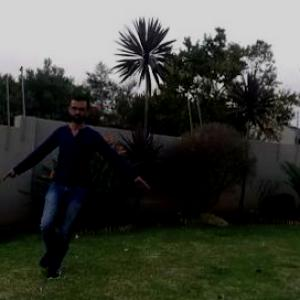land: (16, 97, 152, 265)
